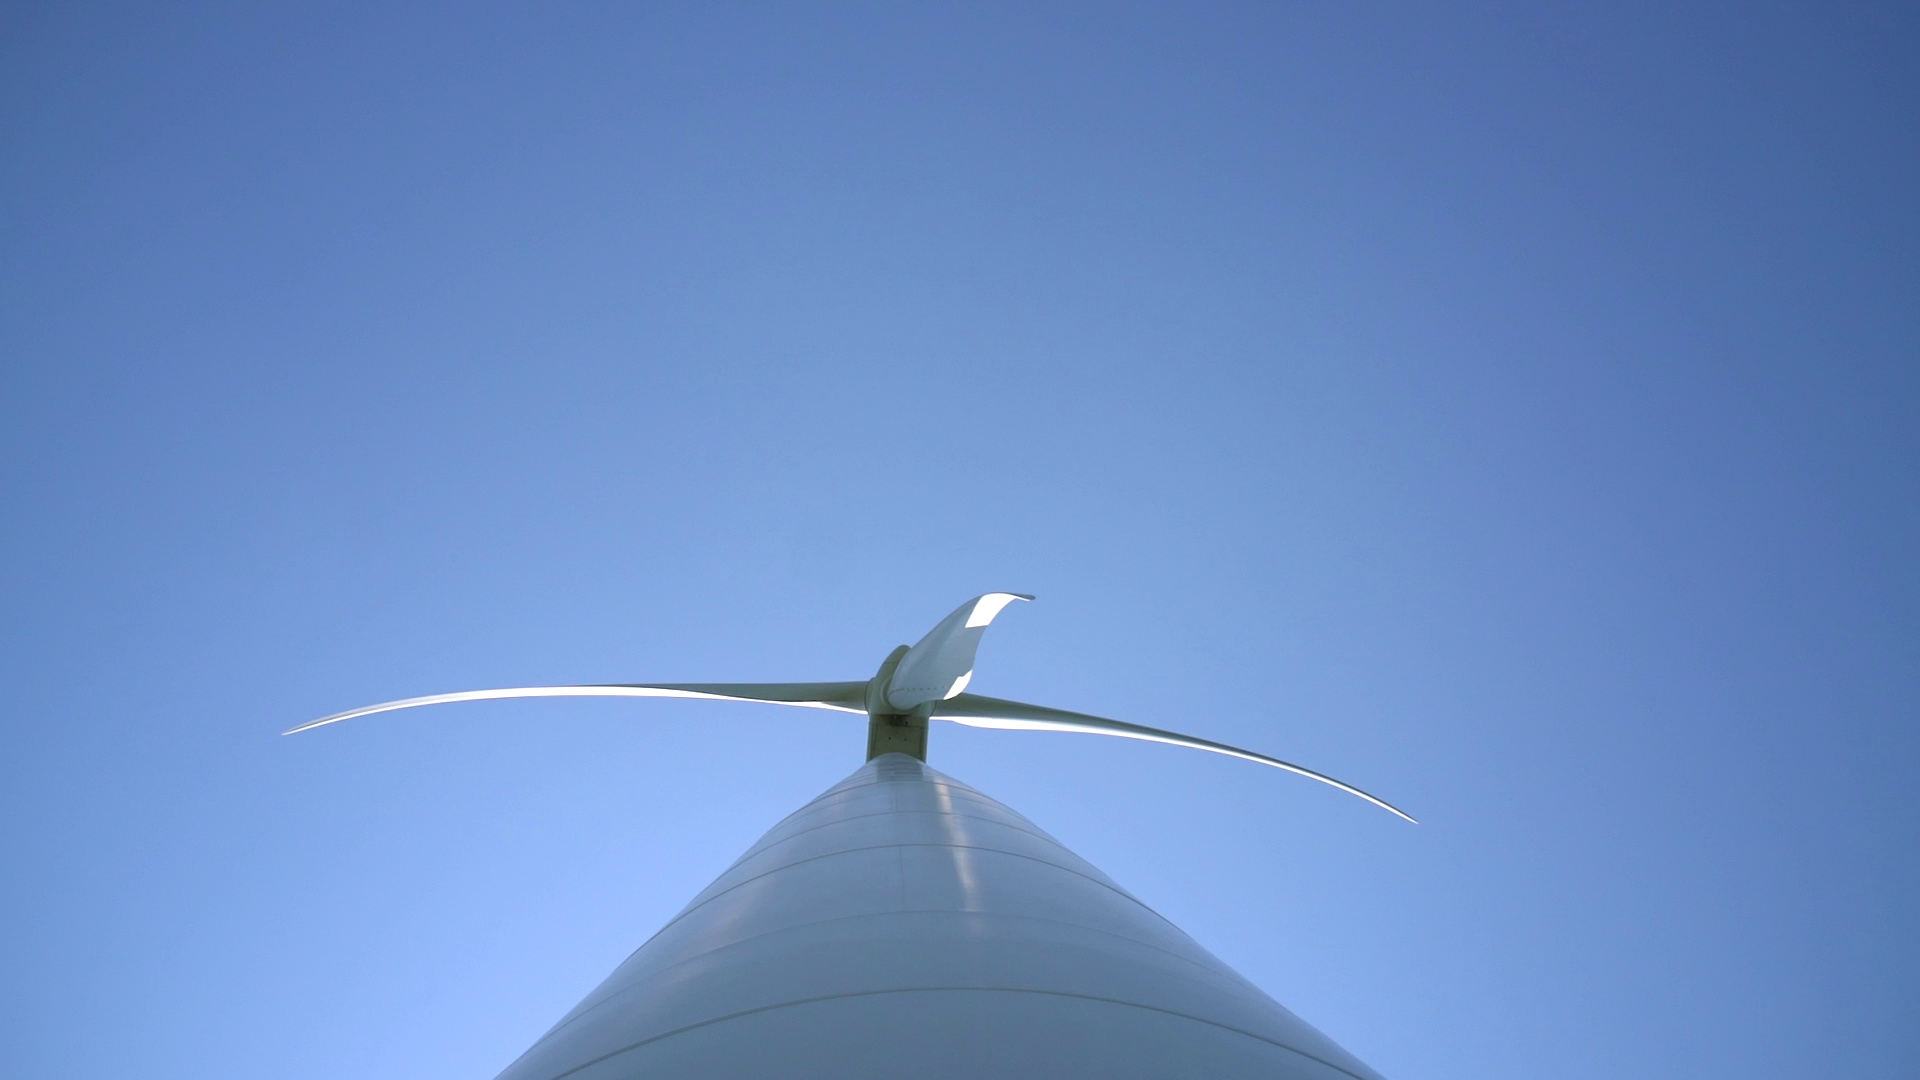turbine: (953, 676, 1447, 840), (270, 630, 869, 753), (899, 546, 1011, 736)
